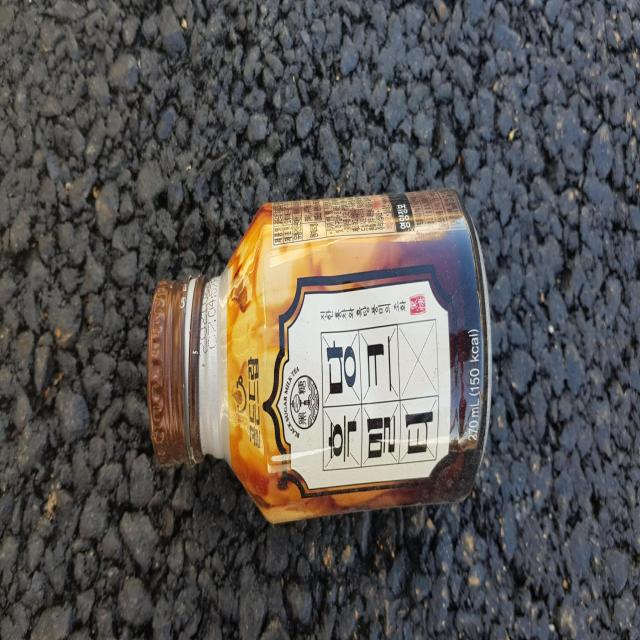can: (146, 188, 492, 523)
